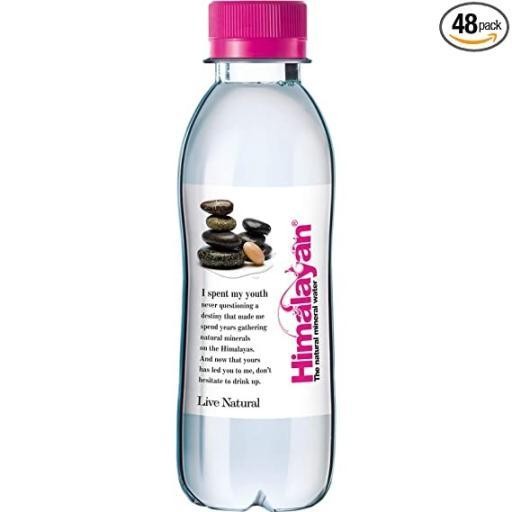bottle: (170, 0, 351, 512)
